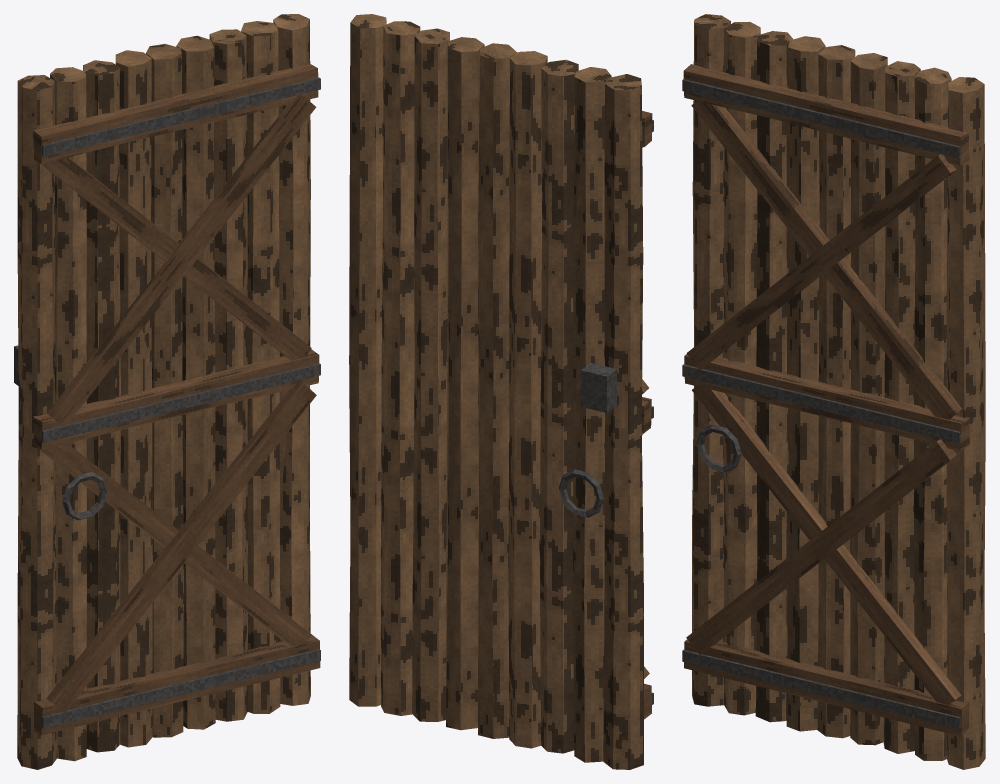
The model's file is portao_pedra_gigante_dir.glb.
3 views of the same model, side by side, from view 1: azimuth 30°, elevation 25°; view 2: azimuth 150°, elevation 25°; view 3: azimuth 330°, elevation 25° (orthographic).
Parts seen in each view (by area): view 1: portao_pedra_gigante_dir_tronco, portao_pedra_gigante_dir_madeira_escura, portao_pedra_gigante_dir_ferro; view 2: portao_pedra_gigante_dir_tronco, portao_pedra_gigante_dir_ferro, portao_pedra_gigante_dir_madeira_escura; view 3: portao_pedra_gigante_dir_tronco, portao_pedra_gigante_dir_madeira_escura, portao_pedra_gigante_dir_ferro.
Part boxes in pixels (box(x1,y1,x2,y2)): portao_pedra_gigante_dir_tronco: box(17, 14, 310, 769); portao_pedra_gigante_dir_madeira_escura: box(33, 64, 320, 735); portao_pedra_gigante_dir_ferro: box(14, 77, 320, 728); portao_pedra_gigante_dir_tronco: box(349, 14, 643, 769); portao_pedra_gigante_dir_ferro: box(559, 120, 653, 704); portao_pedra_gigante_dir_madeira_escura: box(641, 111, 652, 719); portao_pedra_gigante_dir_tronco: box(692, 14, 985, 769); portao_pedra_gigante_dir_madeira_escura: box(683, 64, 969, 736); portao_pedra_gigante_dir_ferro: box(682, 79, 960, 728).
Size of the model in its own units: 3.32 by 7.46 by 0.838.
Materials: 3 (3 with a texture image).
